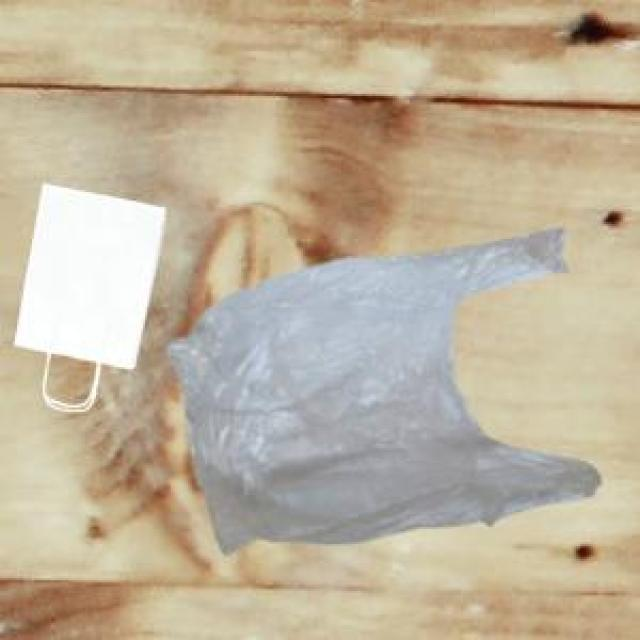paper: (11, 179, 162, 399)
